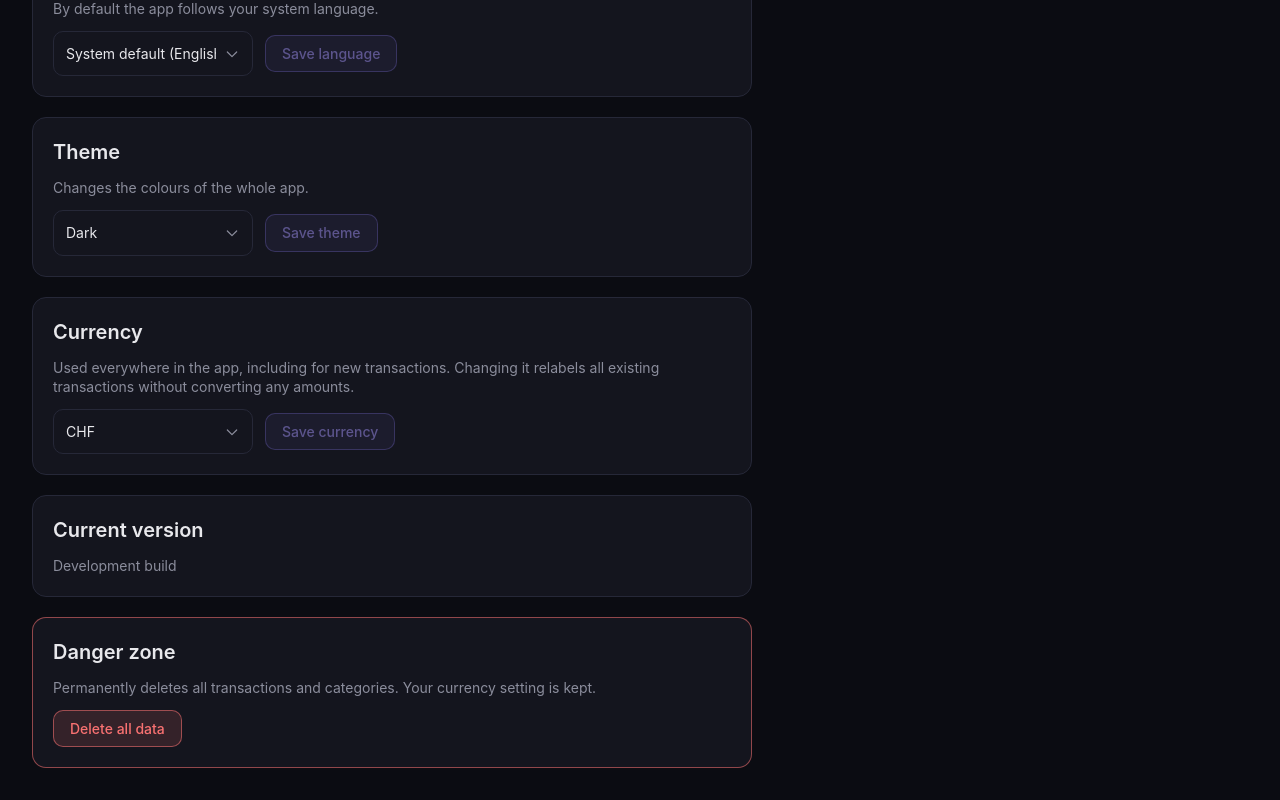
Test: SettingsPage clear all data › a failed delete stays on settings with the error shown
(page scrolled)
Click the button "Delete all data": (117, 728) [53,710,182,747]
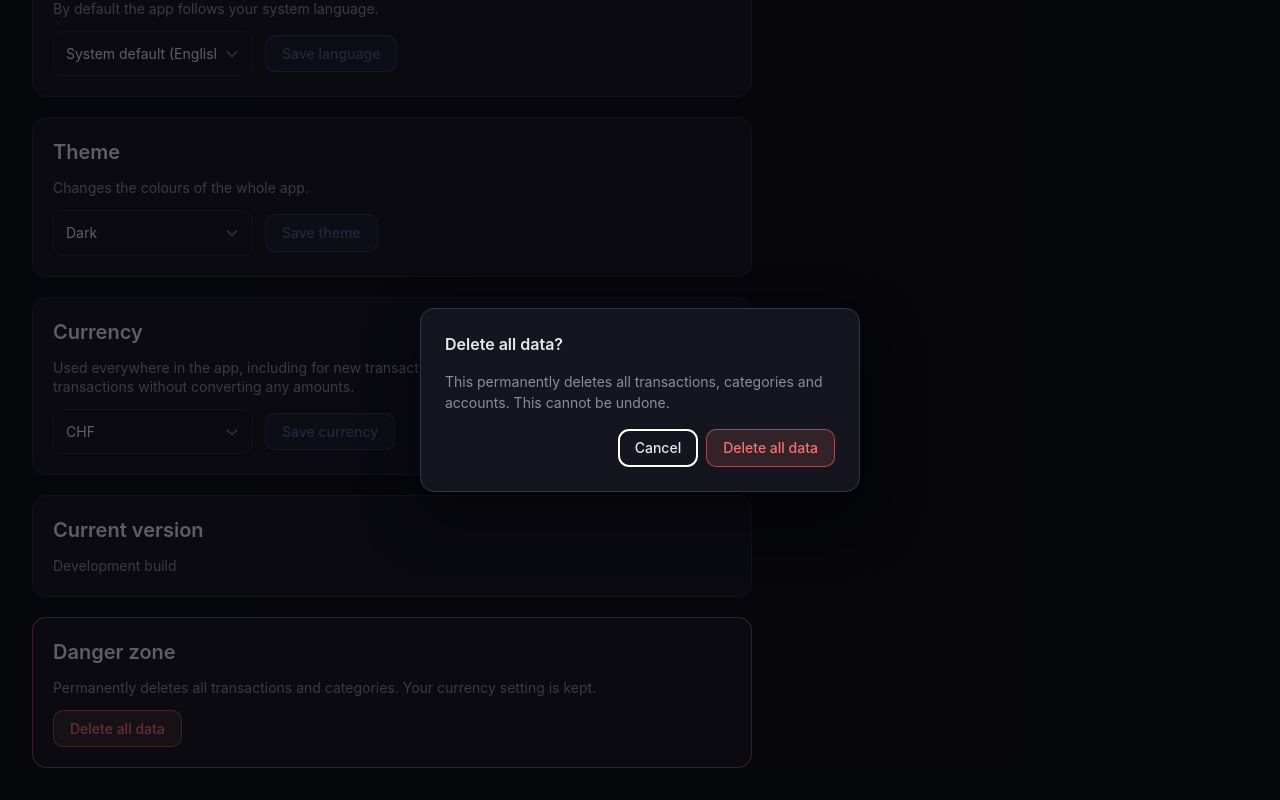
Click the button "Delete all data": (771, 448) [706,429,835,467]
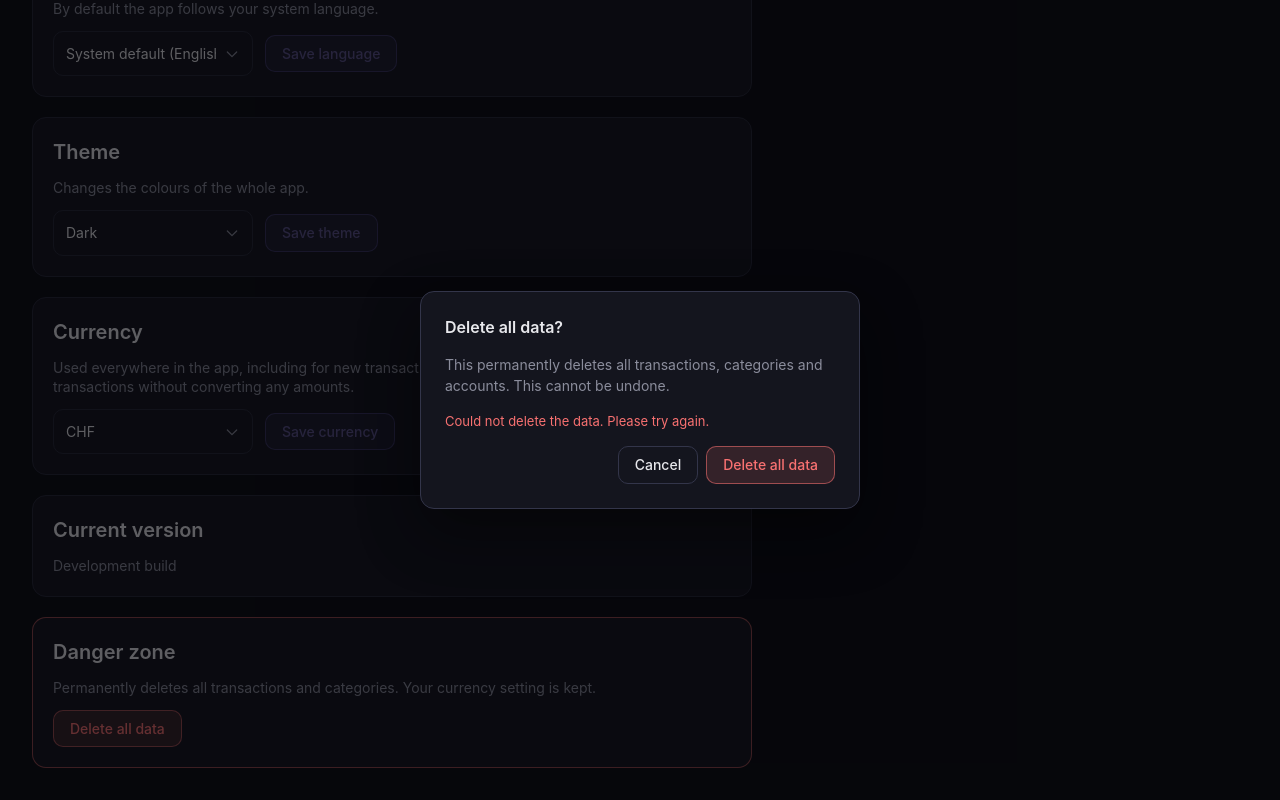
Now the text "Could not delete the data. Please try again." is shown, box [445,413,709,429]
